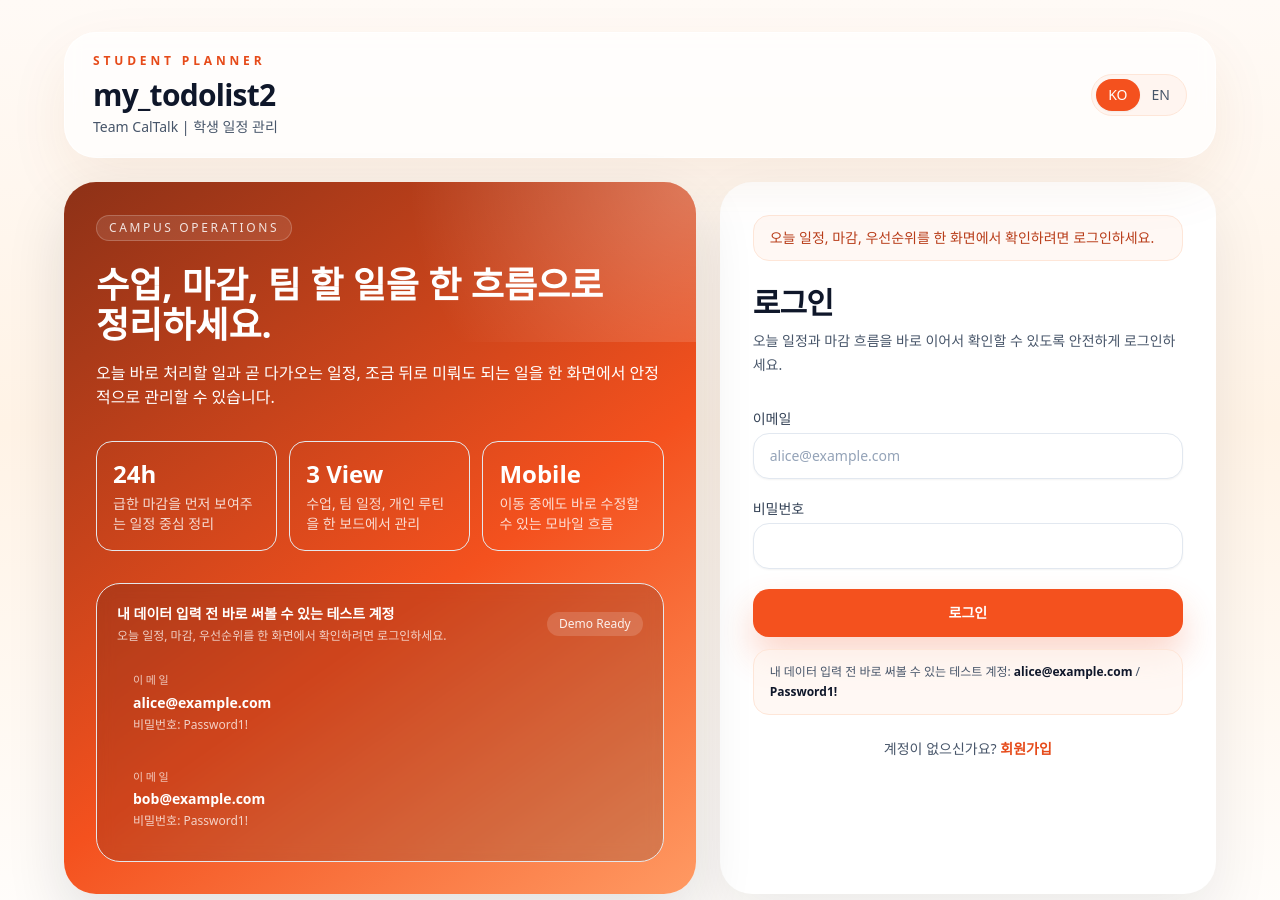
Scenario: 폼 제출 - 로그인 실패 (AC-04) › 401 에러 시 에러 배너가 표시되고 비밀번호 필드가 초기화된다
Type "user@example.com" into the field labelled "이메일" at (968, 456), box top-left (753, 433), bottom-right (1183, 479)
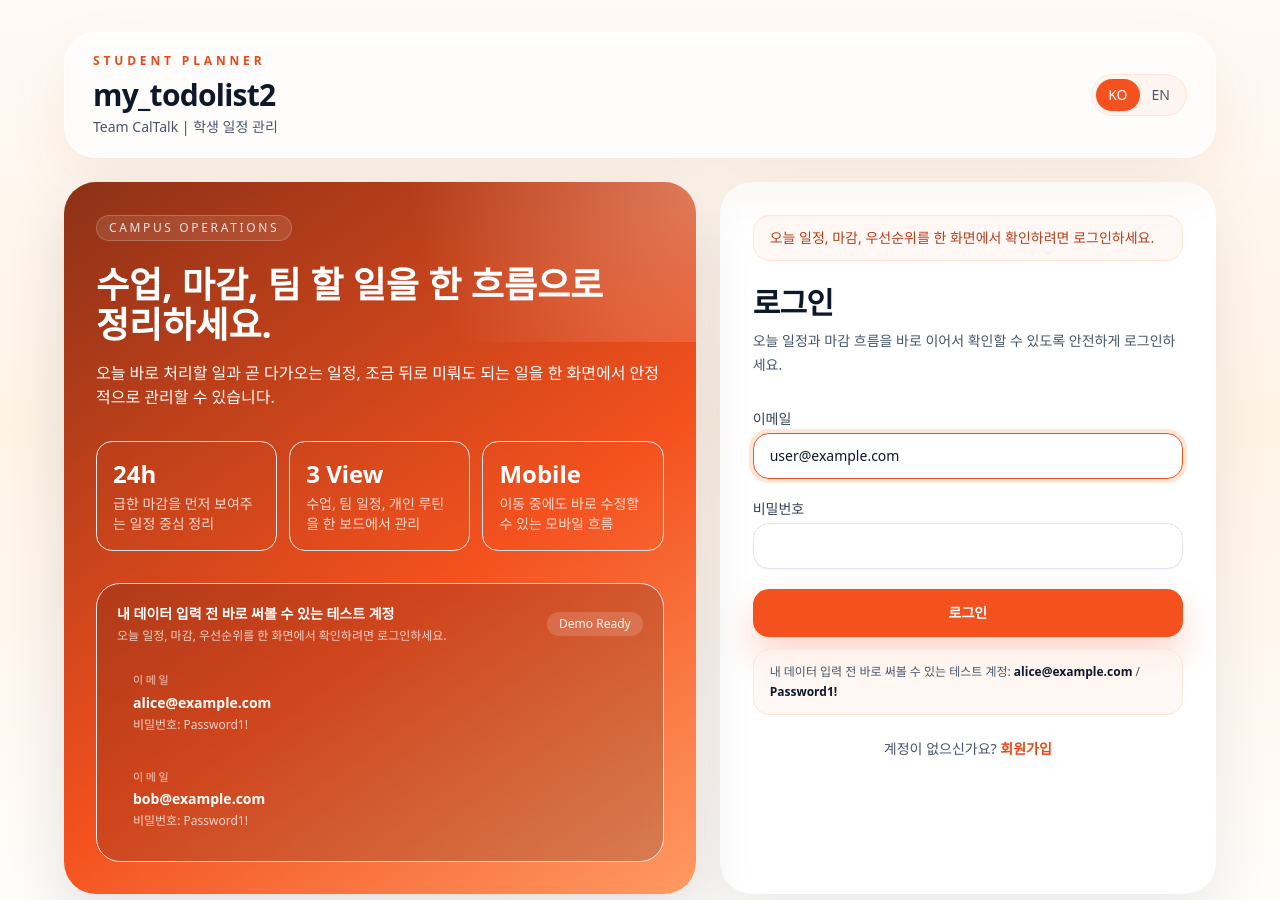
Type "wrongpass" into the password field labelled "비밀번호" at (968, 546), box top-left (753, 523), bottom-right (1183, 569)
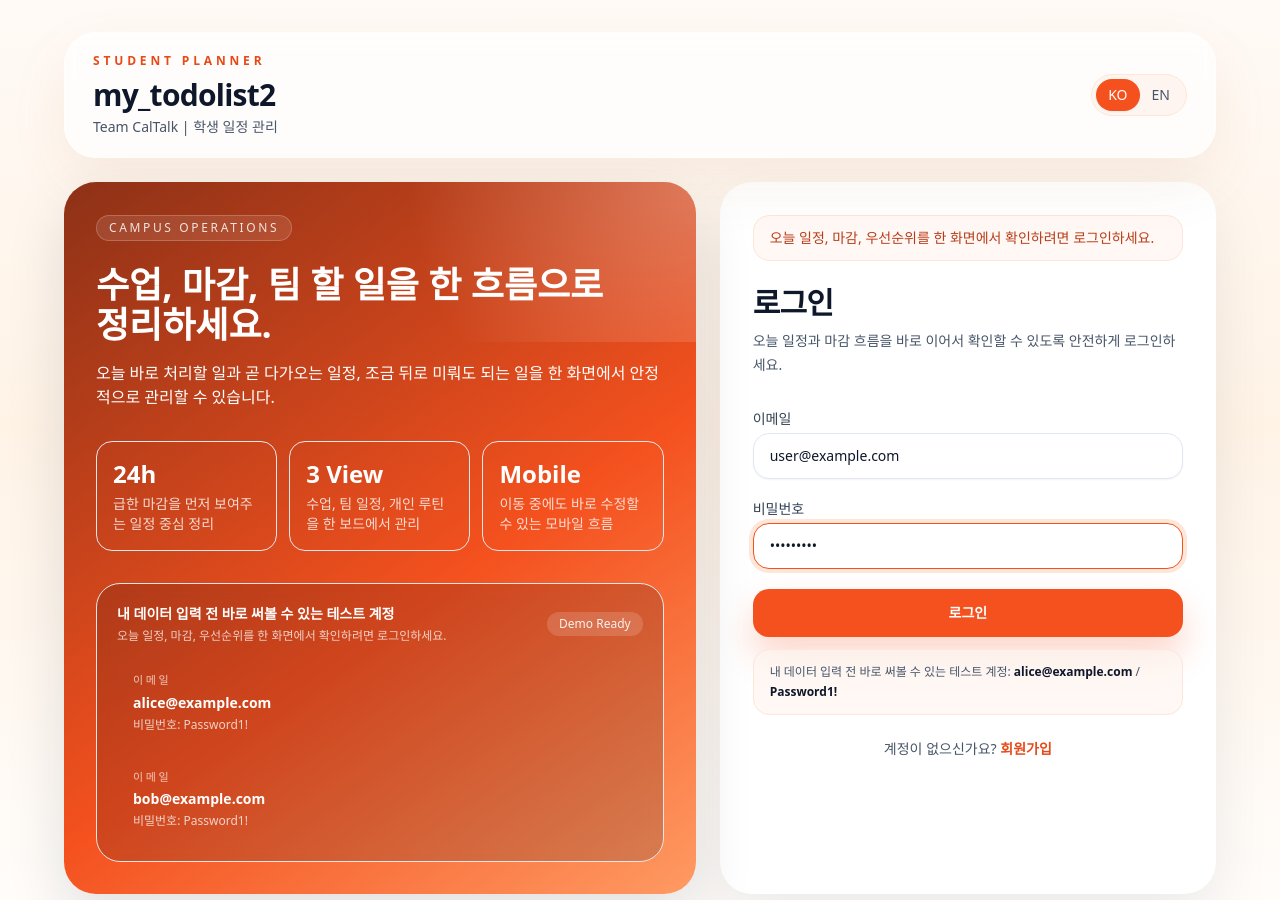
Click the button "로그인" at (968, 613), box top-left (753, 589), bottom-right (1183, 637)
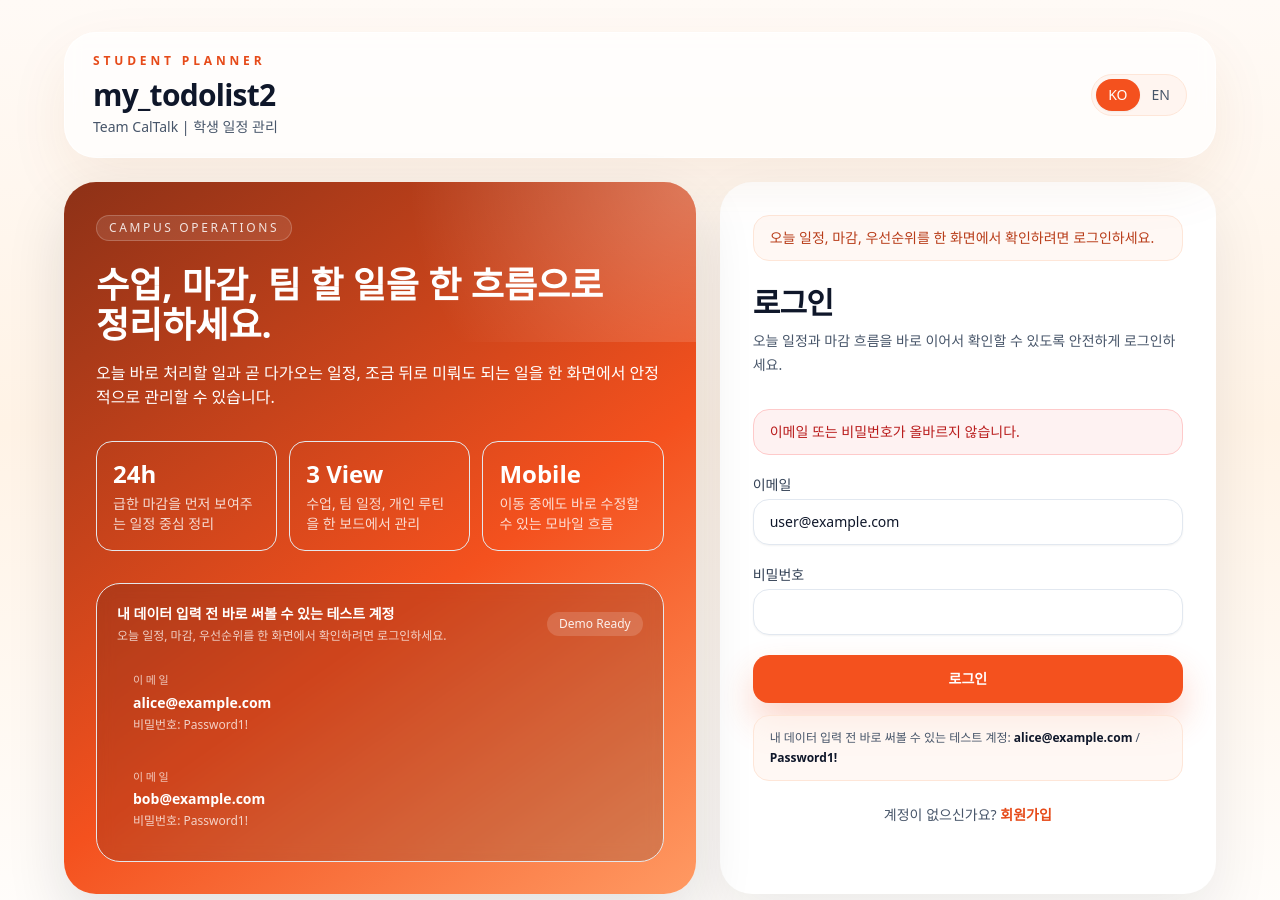
Expected: the message "이메일 또는 비밀번호가 올바르지 않습니다." is shown, top-left (753, 409), bottom-right (1183, 455)
Expected: the message reads "이메일 또는 비밀번호가 올바르지 않습니다.", top-left (770, 422), bottom-right (1020, 441)
Expected: the password field labelled "비밀번호" is empty, top-left (753, 589), bottom-right (1183, 635)
